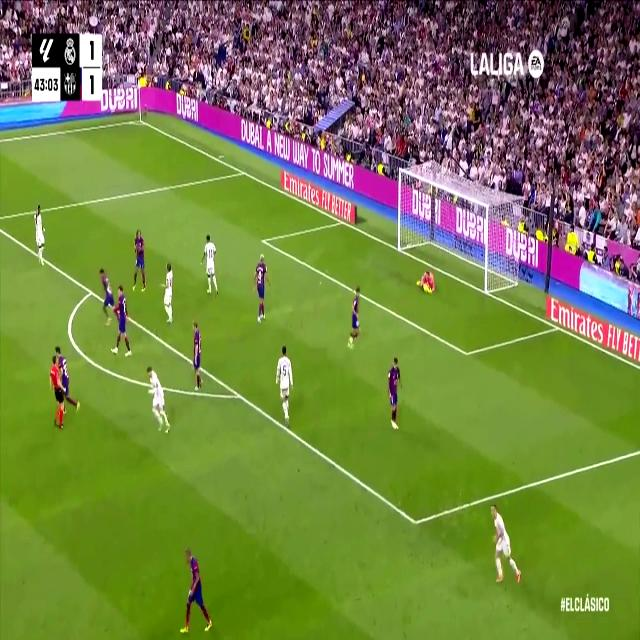bigarea_bottom_inner: (408, 504, 422, 538)
bigarea_top_outter: (238, 163, 247, 179)
bottom_arc_area_intersection: (232, 380, 245, 408)
corner: (134, 113, 146, 127)
smallarea_top_inner: (258, 231, 268, 249)
top_arc_area_intersection: (86, 281, 96, 300)
